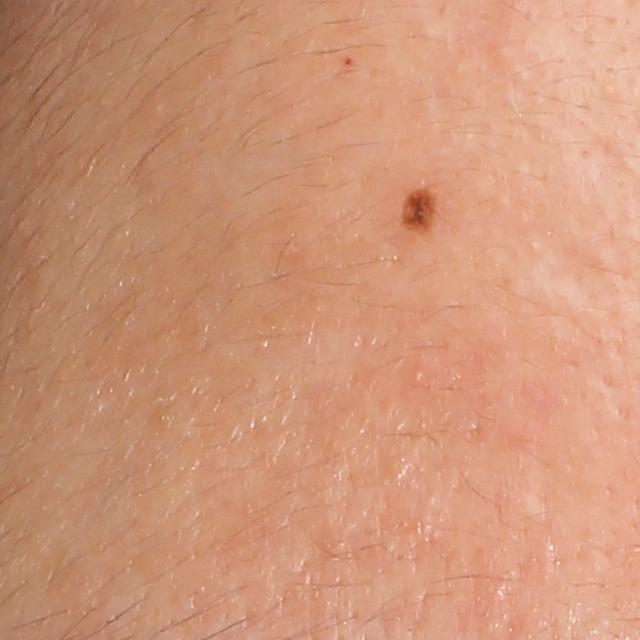comedo: (409, 366, 425, 387)
